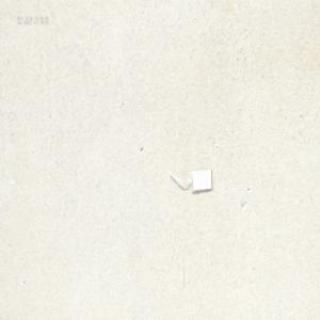LuggageTagtrack_idkeyframe: (168, 166, 212, 193)
